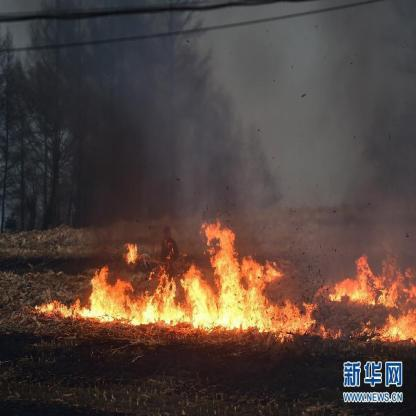fire: (34, 234, 414, 340)
